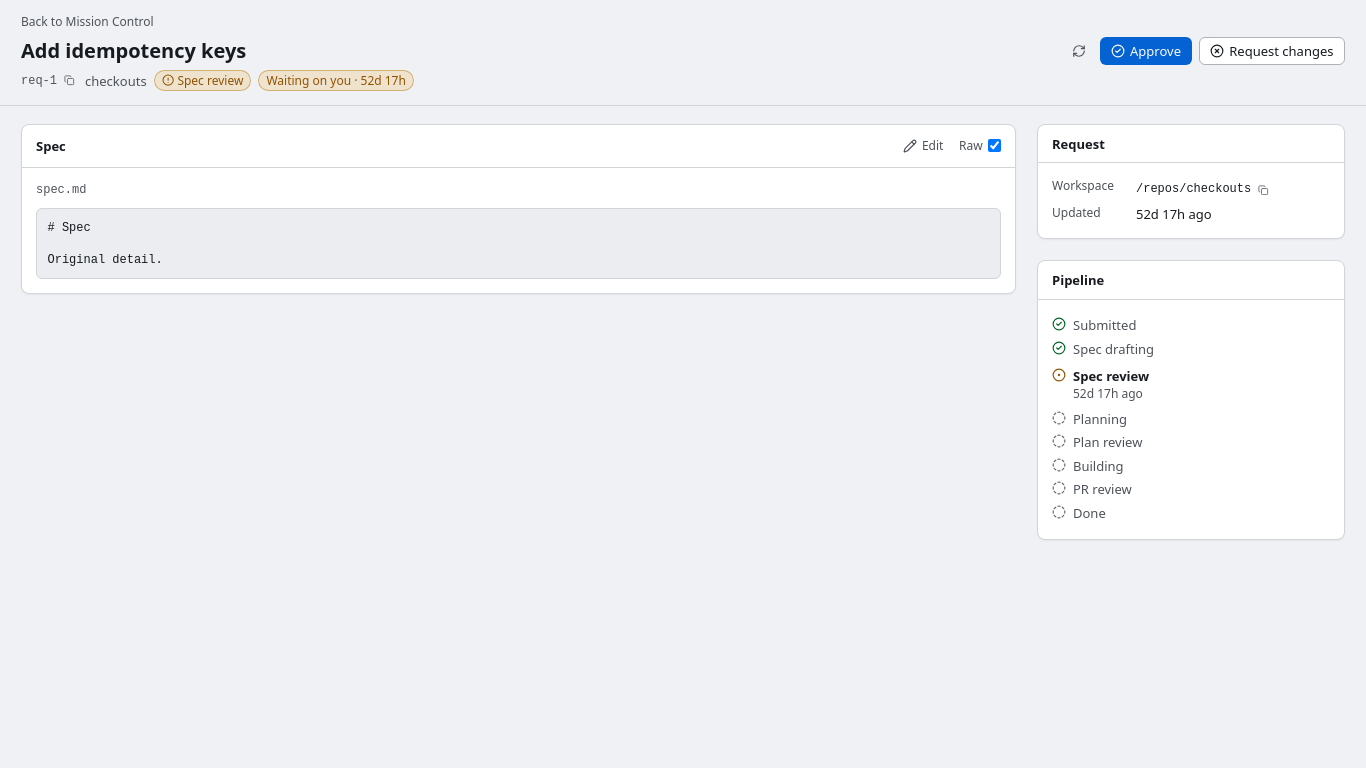
Test: Edit disables Approve and Request changes while the editor is open, and says why
Expected: the heading "Add idempotency keys" is shown, [21,37,246,64]
Expected: the button "Approve" is enabled, [1100,37,1192,65]
What coordinates should you click on to do the following:
click the button "Edit"
I would click on:
 (923, 146)
Its box is [894,134,952,158].
(page scrolled)
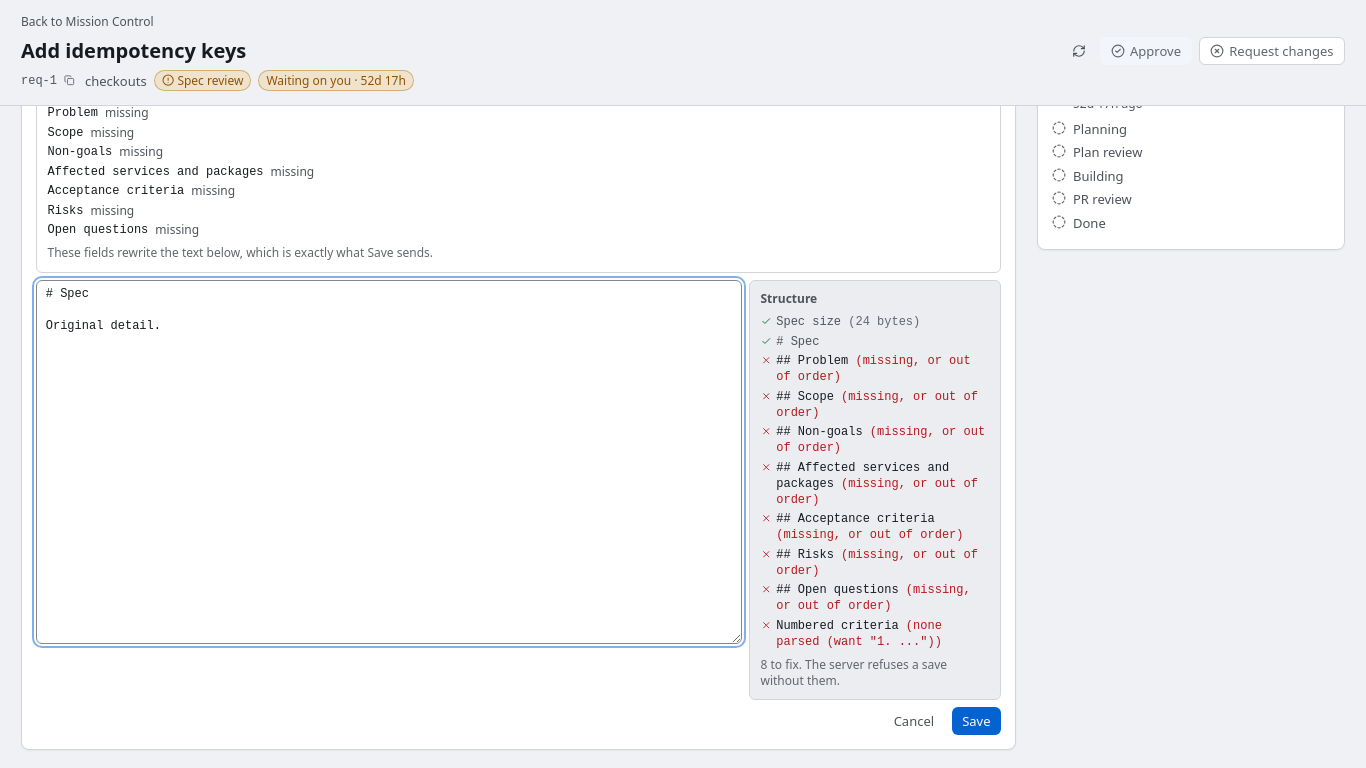
Expected: the button "Approve" is disabled, [1100,37,1192,65]
Expected: the button "Request changes" is disabled, [1198,37,1345,65]
What coordinates should you click on to do the following:
click the button "Cancel"
I would click on:
 (914, 721)
Its box is [883,707,945,735].
(page scrolled)
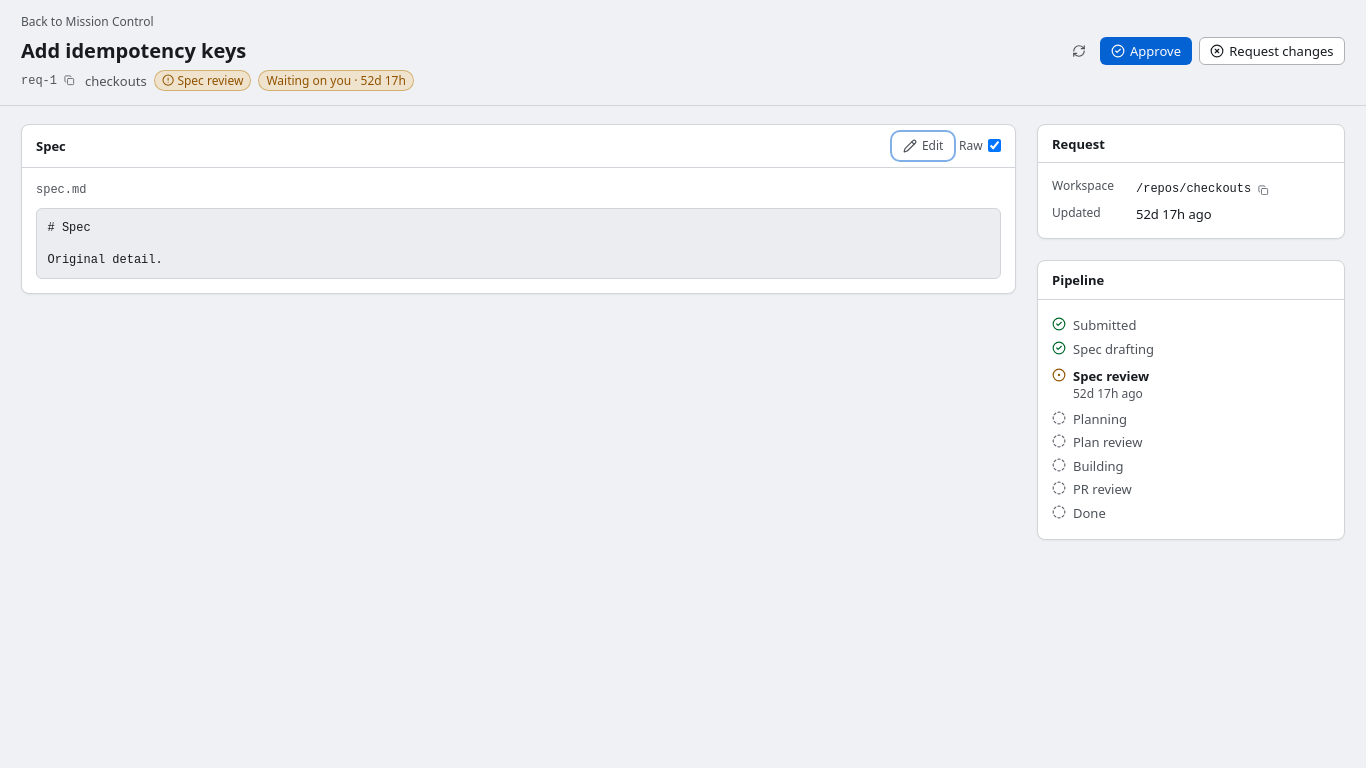
Expected: the button "Approve" is enabled, [1100,37,1192,65]
Expected: the text "# Spec" is shown, [48,221,163,267]
